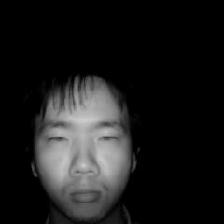normal: (18, 61, 145, 223)
